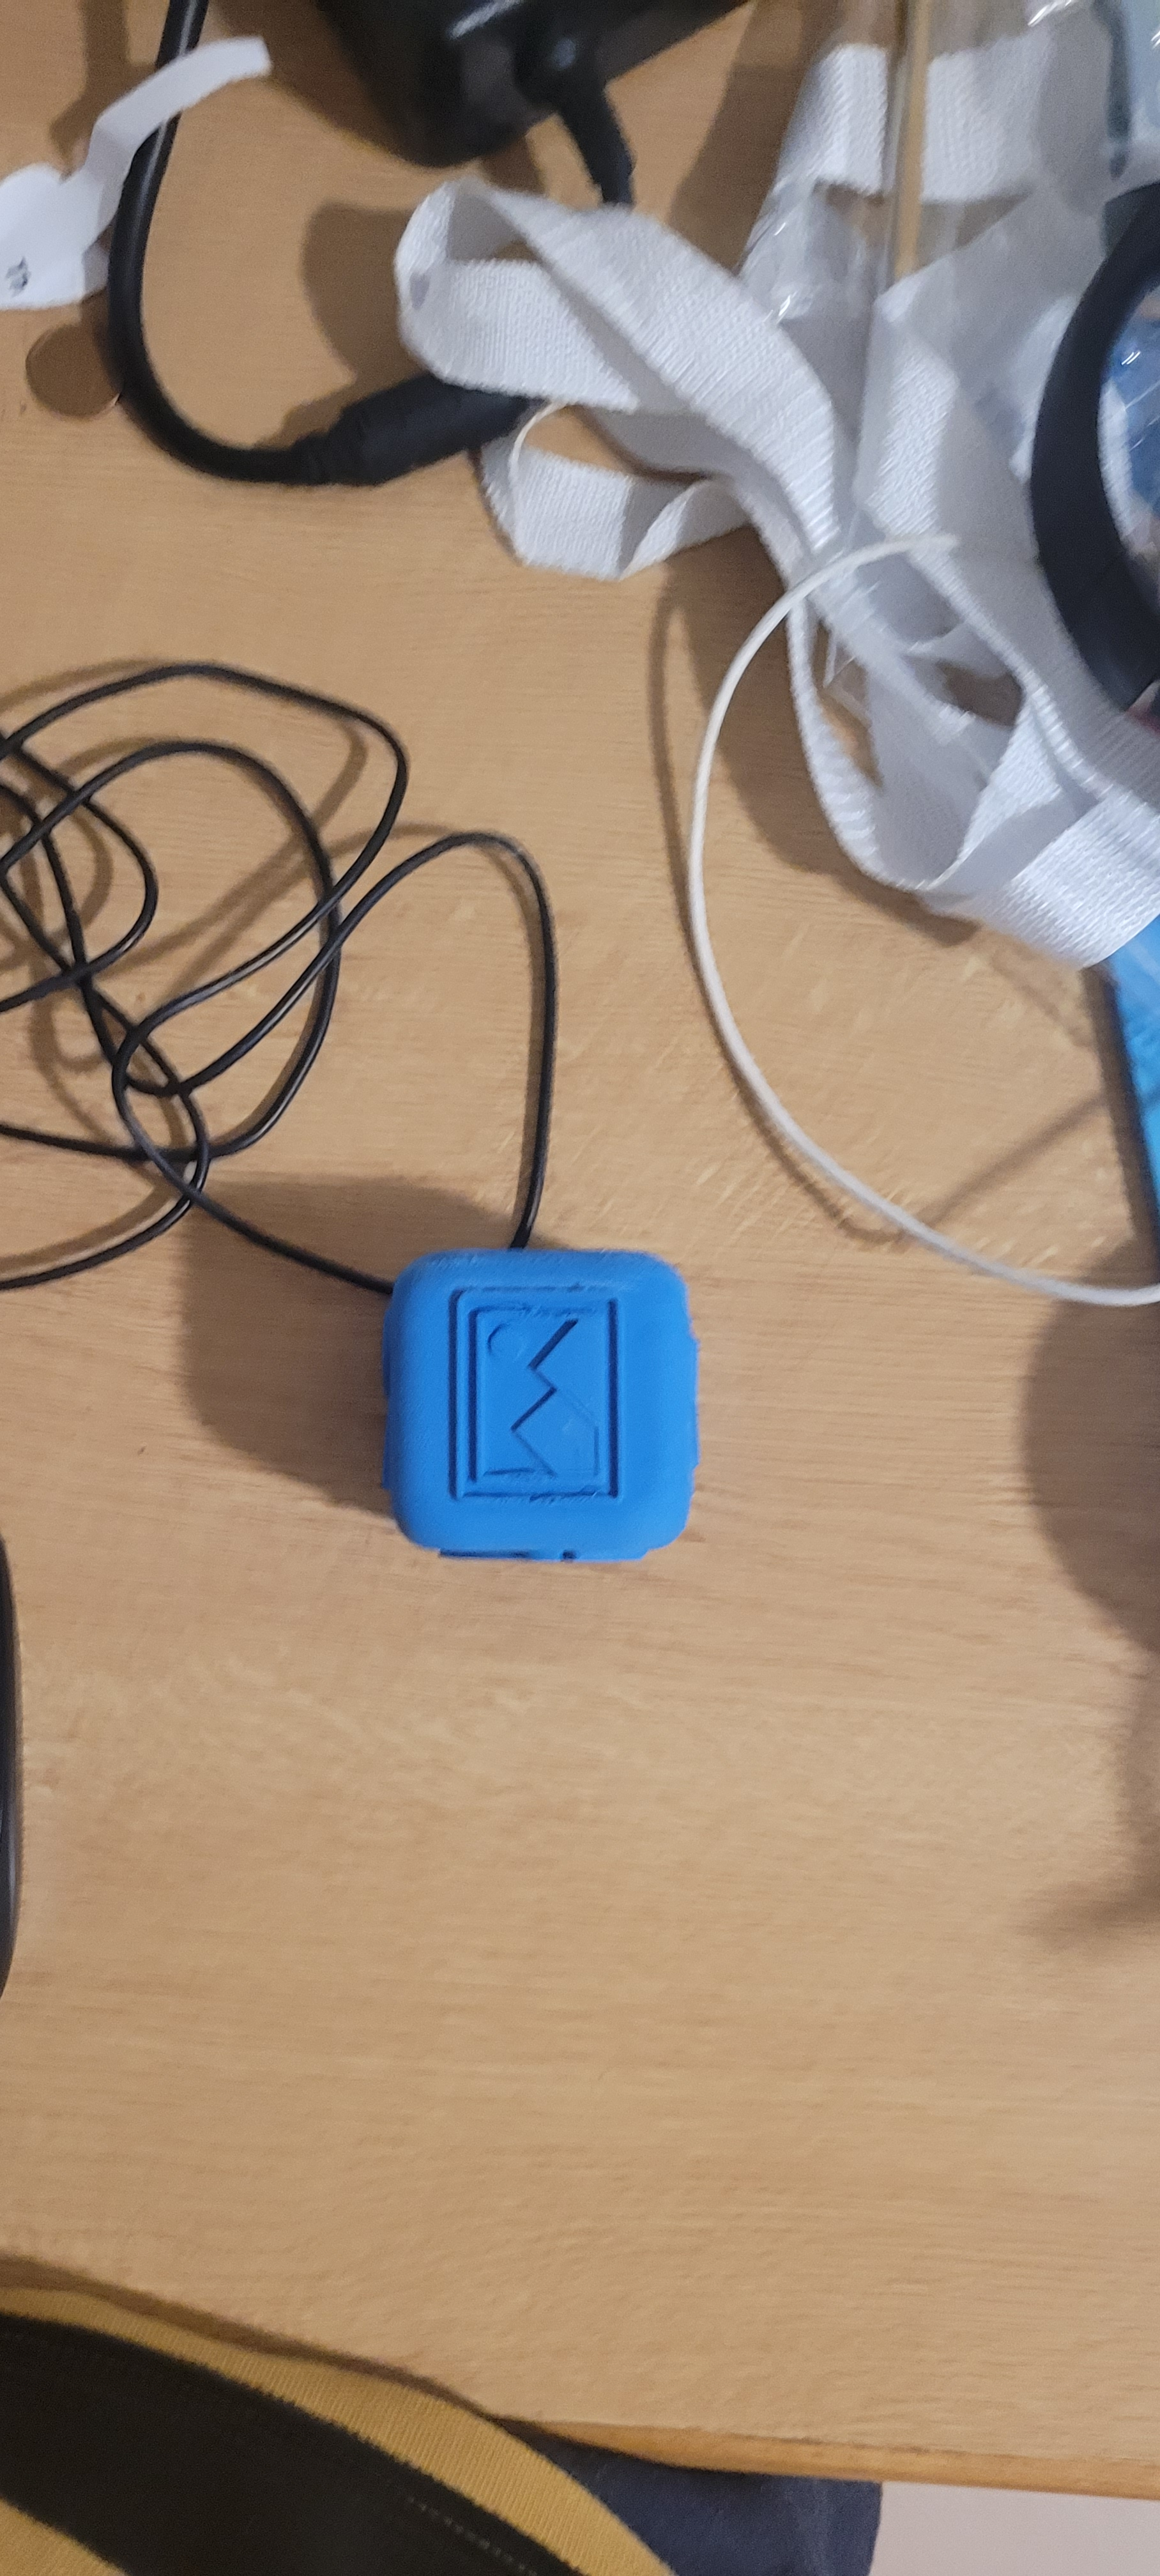Story: (427, 1262, 641, 1510)
